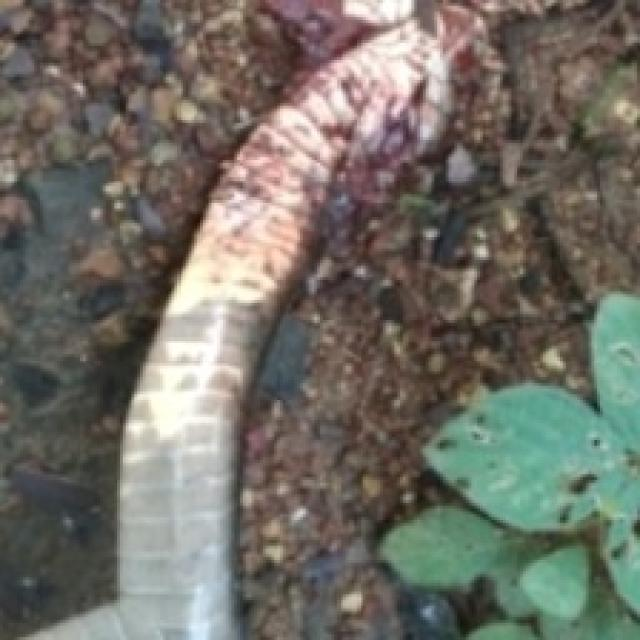king cobra: (0, 0, 371, 637)
